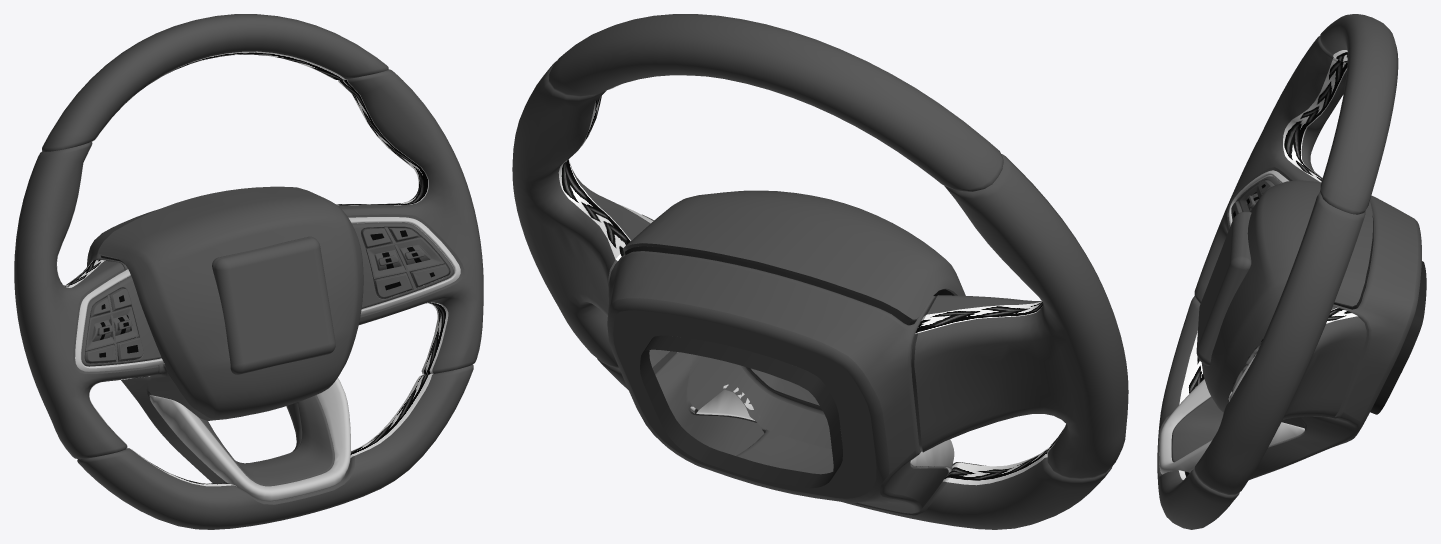
Rendered from scorpio steering optimized.glb.
3 renders of one model, left to right at view 1: azimuth 30°, elevation 25°; view 2: azimuth 150°, elevation 25°; view 3: azimuth 270°, elevation 25°, orthographic. The views are drawn at different scales.
Size of the model in its own units: 0.3811 by 0.3497 by 0.1905.
Materials: 6 (2 with a texture image).
